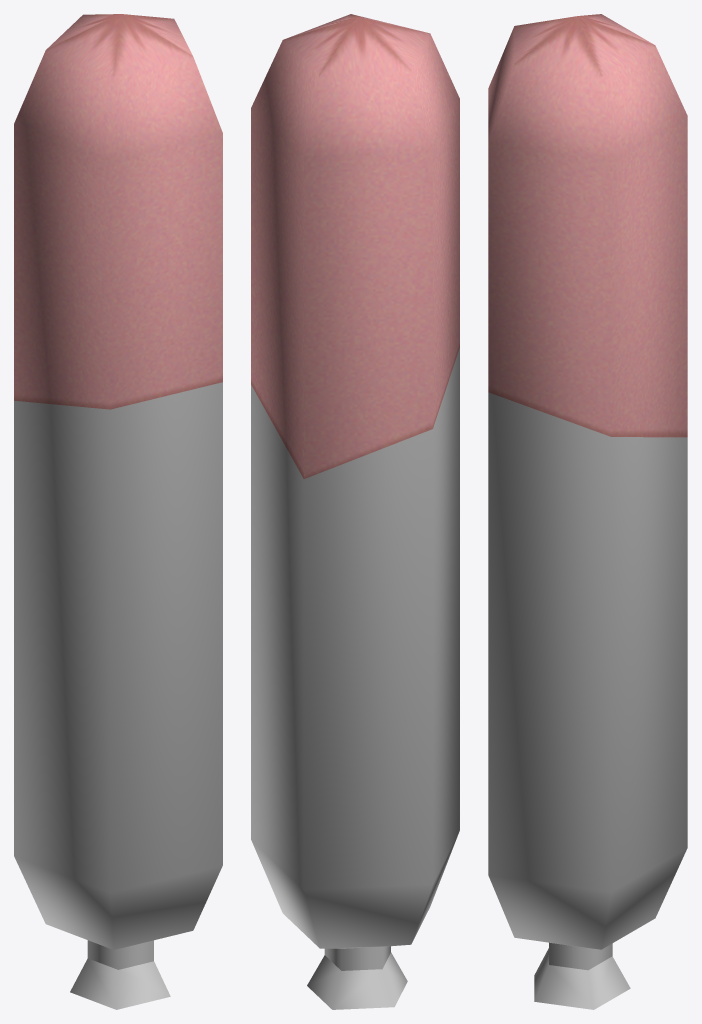
The model's file is CheapSausage02.fbx.
3 renders of one model, left to right at view 1: azimuth 30°, elevation 25°; view 2: azimuth 150°, elevation 25°; view 3: azimuth 270°, elevation 25°, orthographic.
Parts seen in each view (by area): view 1: Empty_Mesh; view 2: Empty_Mesh; view 3: Empty_Mesh.
Boxes of the visible parts, x1=… form: Empty_Mesh: x1=14, y1=14, x2=222, y2=1009; Empty_Mesh: x1=251, y1=14, x2=459, y2=1009; Empty_Mesh: x1=488, y1=14, x2=687, y2=1009.
Bounding box in the file's own units: 0.0853 × 0.4365 × 0.0812.
